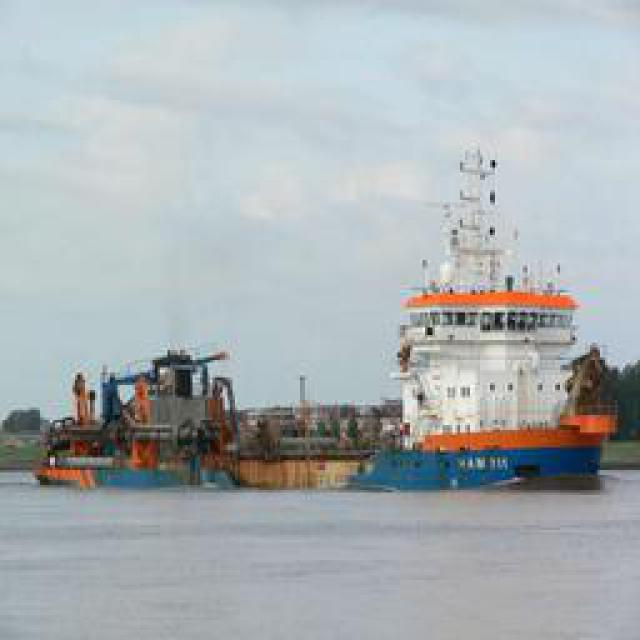Ship: (360, 140, 610, 500)
